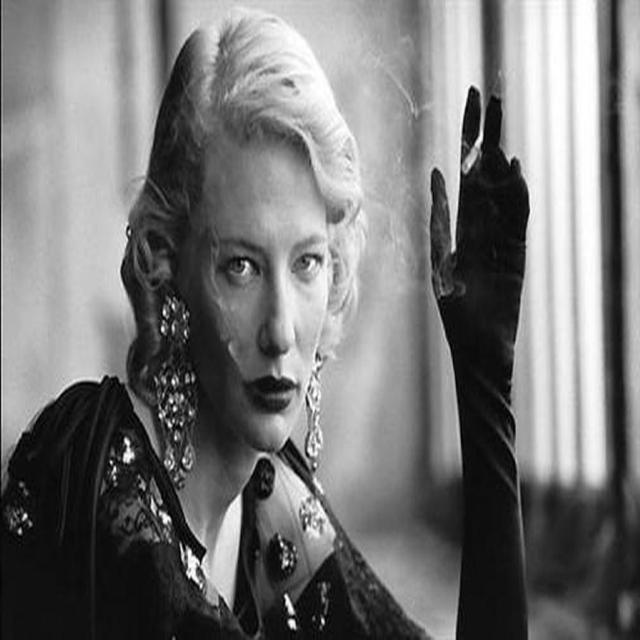smoking: (3, 7, 534, 637)
